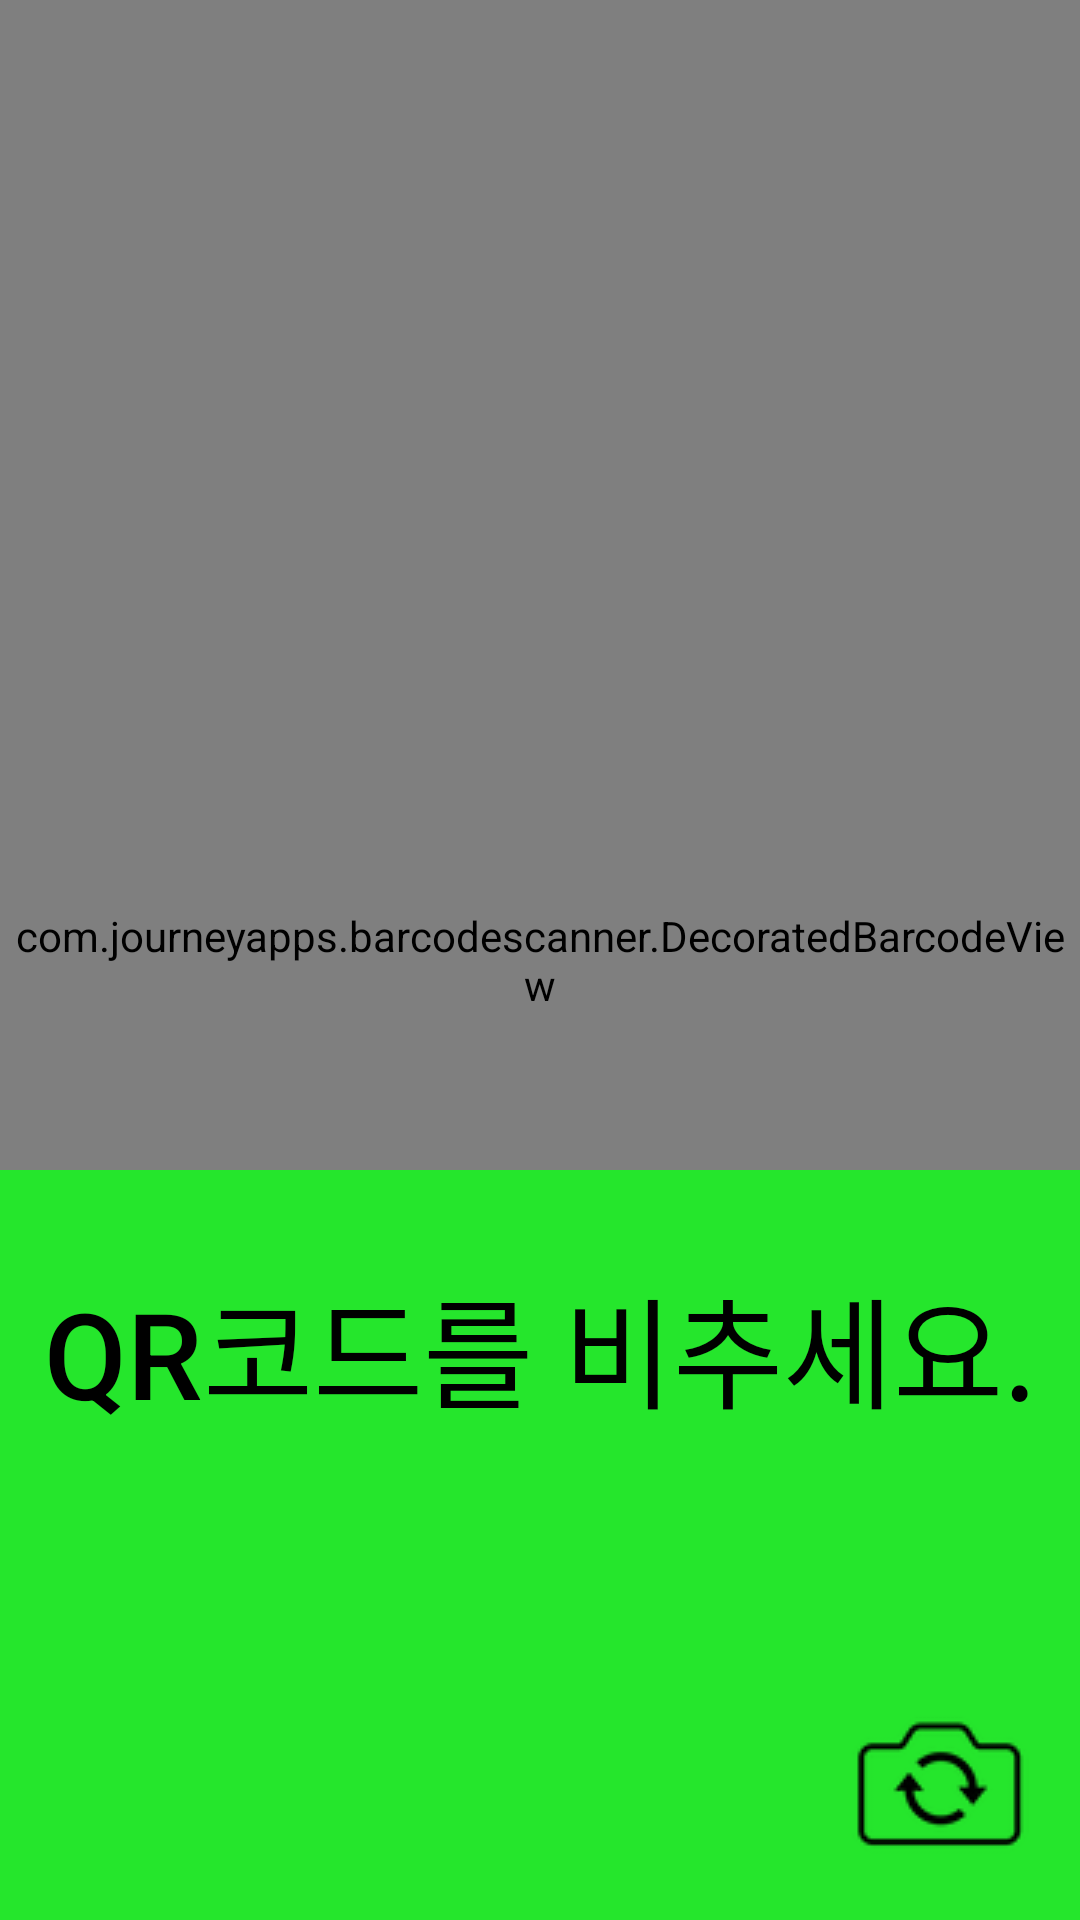

Screen size 1080 × 1920. Icon name, then its center in pixels as [x,y]:
switch camera: [940,1783]
